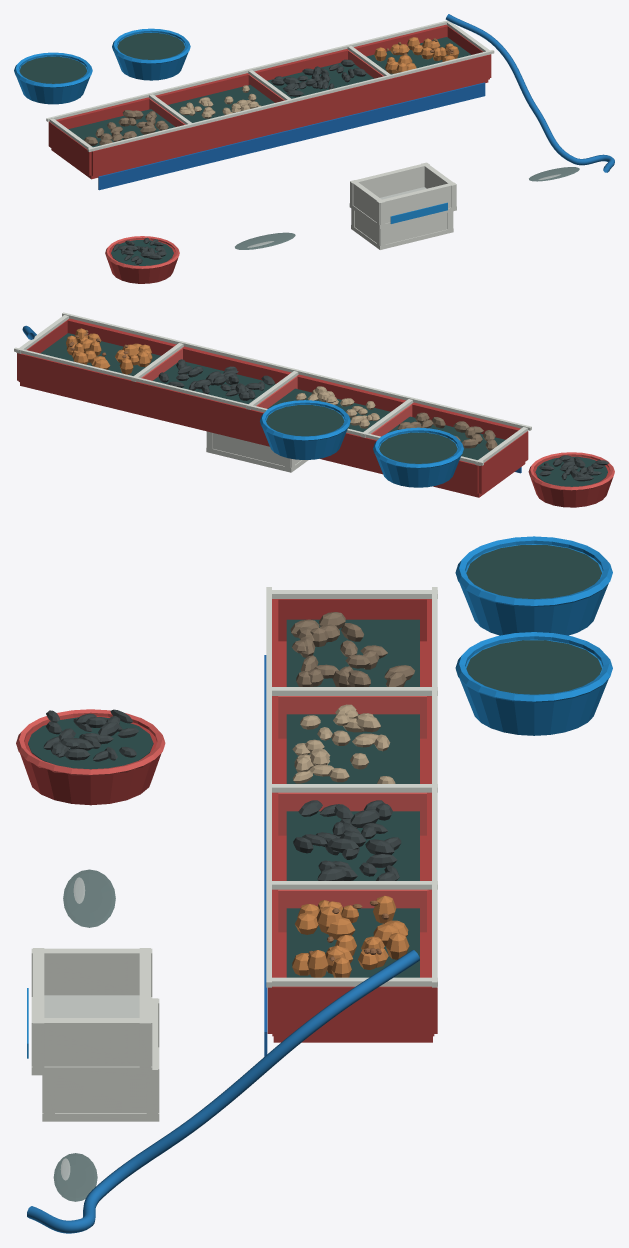
The model's file is restaurant-front.glb.
3 renders of one model, top to bottom at view 1: azimuth 30°, elevation 25°; view 2: azimuth 150°, elevation 25°; view 3: azimuth 270°, elevation 25°, orthographic. The views are drawn at different scales.
Visible parts, largest first — view 1: Front trough base, Trough dark water, Center foam box base, Blue market name strip, White trough lip, Blue working basin 1, Trough seafood 00.002, Coiled blue hose, Front trough divider, Trough seafood 00.003, Trough seafood 00, Wet floor patch (+1 smaller); view 2: Front trough base, Trough dark water, White trough lip, Blue working basin 1, Trough seafood 00.002, Front trough divider, Trough seafood 00.003, Center foam box base, Trough seafood 00, Trough seafood 00.001; view 3: Trough dark water, Front trough base, Center foam box base, Blue working basin 1, White trough lip, Front trough divider, Trough seafood 00.002, Coiled blue hose, Trough seafood 00.003, Trough seafood 00, Trough seafood 00.001, Wet floor patch (+2 smaller).
Part boxes in pixels (x1,y1,x2,y2): Front trough base: (48, 24, 491, 283); Trough dark water: (19, 33, 471, 265); Center foam box base: (349, 162, 456, 249); Blue market name strip: (98, 82, 485, 190); White trough lip: (46, 20, 494, 151); Blue working basin 1: (14, 28, 447, 223); Trough seafood 00.002: (112, 59, 366, 264); Coiled blue hose: (445, 14, 614, 172); Front trough divider: (105, 50, 383, 269); Trough seafood 00.003: (374, 37, 459, 73); Trough seafood 00: (84, 110, 168, 145); Wet floor patch: (235, 167, 579, 249); Front trough base: (17, 318, 613, 507); Trough dark water: (40, 333, 607, 486); White trough lip: (14, 312, 531, 465); Blue working basin 1: (260, 400, 463, 487); Trough seafood 00.002: (158, 359, 608, 481); Front trough divider: (141, 348, 614, 491); Trough seafood 00.003: (66, 328, 152, 374); Center foam box base: (206, 431, 308, 472); Trough seafood 00: (398, 412, 497, 450); Trough seafood 00.001: (279, 386, 379, 428); Trough dark water: (28, 545, 601, 977); Front trough base: (20, 599, 437, 1042); Center foam box base: (31, 948, 159, 1121); Blue working basin 1: (27, 536, 612, 1058); White trough lip: (266, 587, 437, 987); Front trough divider: (16, 696, 428, 932); Trough seafood 00.002: (43, 709, 401, 880); Coiled blue hose: (27, 950, 419, 1233); Trough seafood 00.003: (292, 895, 409, 977); Trough seafood 00: (290, 612, 414, 686); Trough seafood 00.001: (292, 704, 395, 783); Wet floor patch: (53, 869, 115, 1201).
Bounding box in the file's own units: 9.15 × 2.48 × 4.75.
